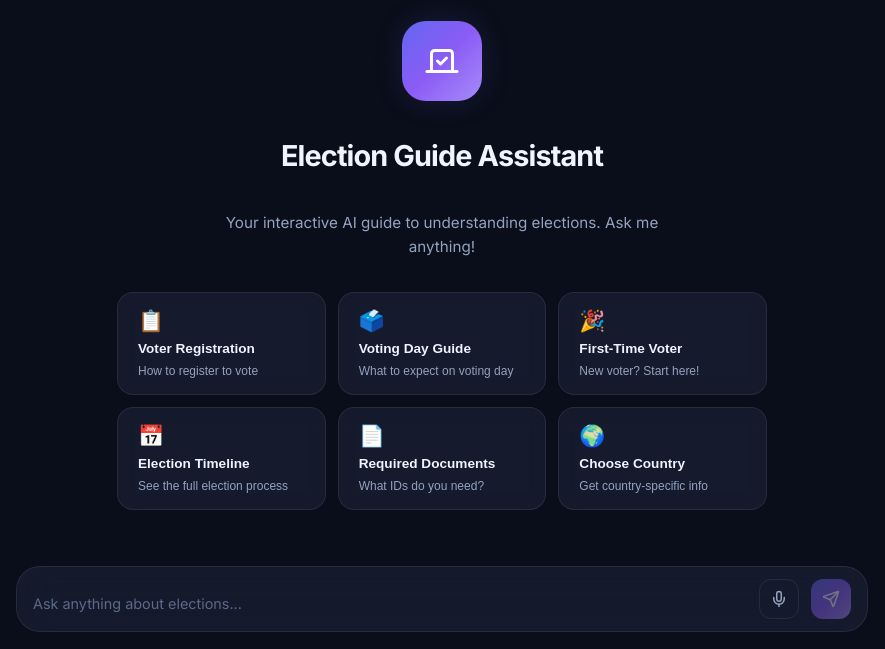
Test: ChatView — input and send › send button becomes enabled when input has text
The width and height of the screenshot is (885, 649).
Type "Hello" into the text box.
click(390, 604); type("Hello")  # box [33, 589, 747, 619]
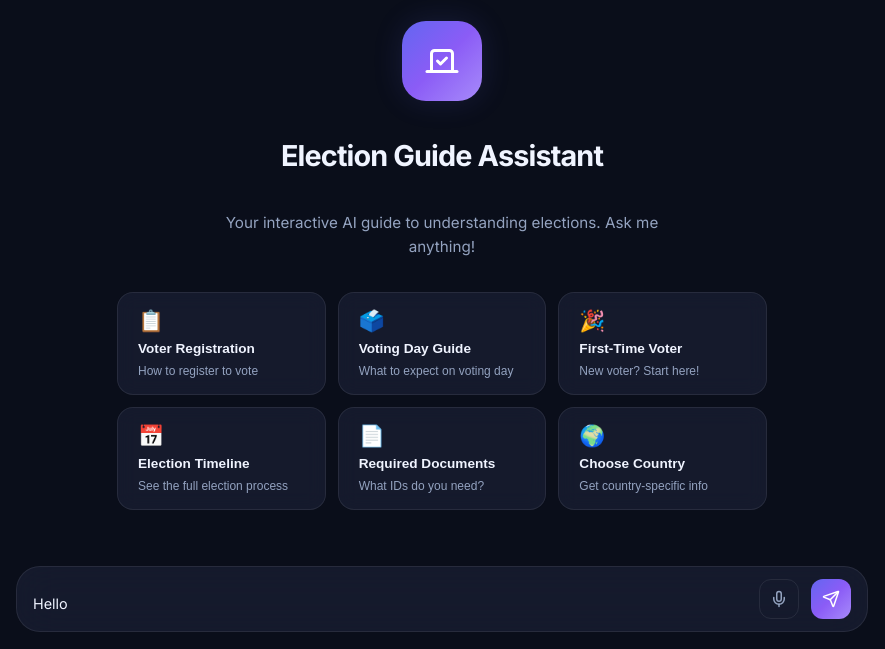
Check: the button named "send message" is enabled, box [811, 579, 851, 619]
